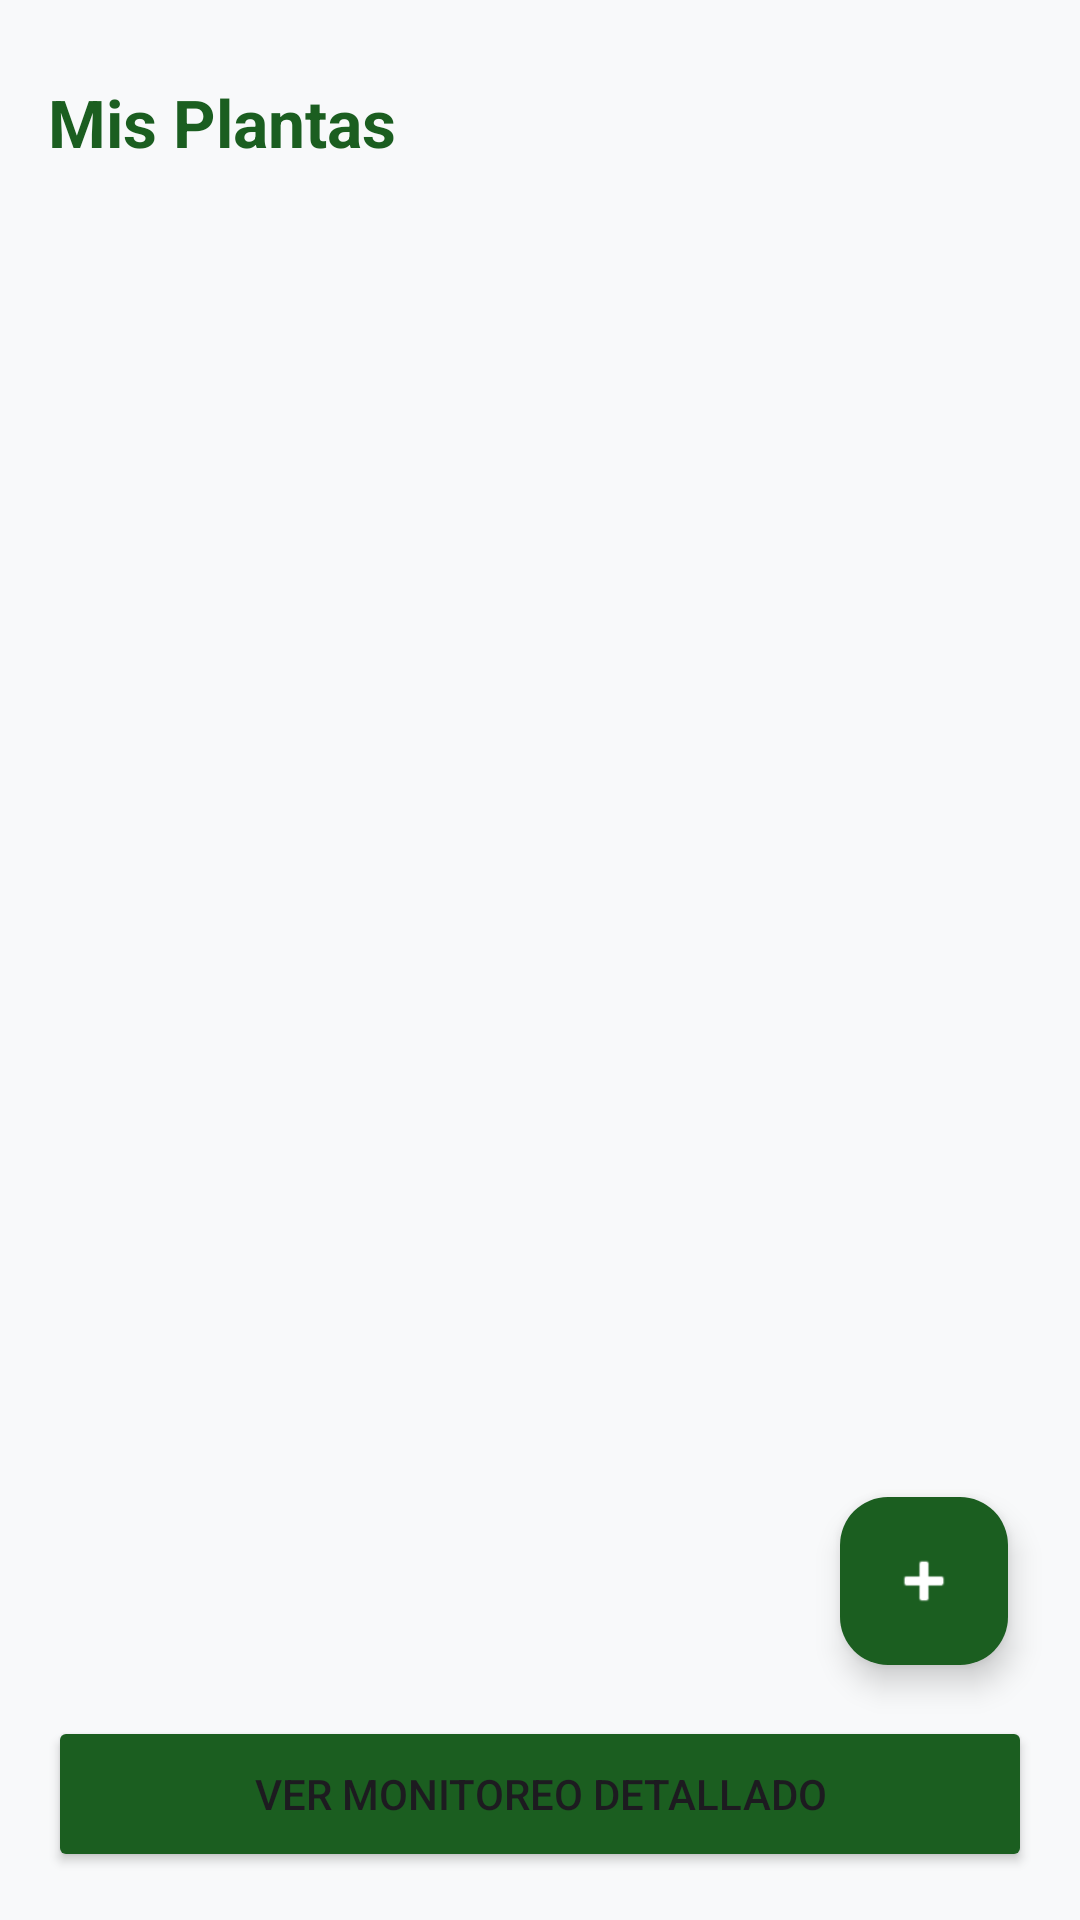

Icons on this 1080px×1920px Android screen, each with its box as (x1, y1, x2, y2):
Agregar Nueva Planta: (840, 1497, 1008, 1665)
